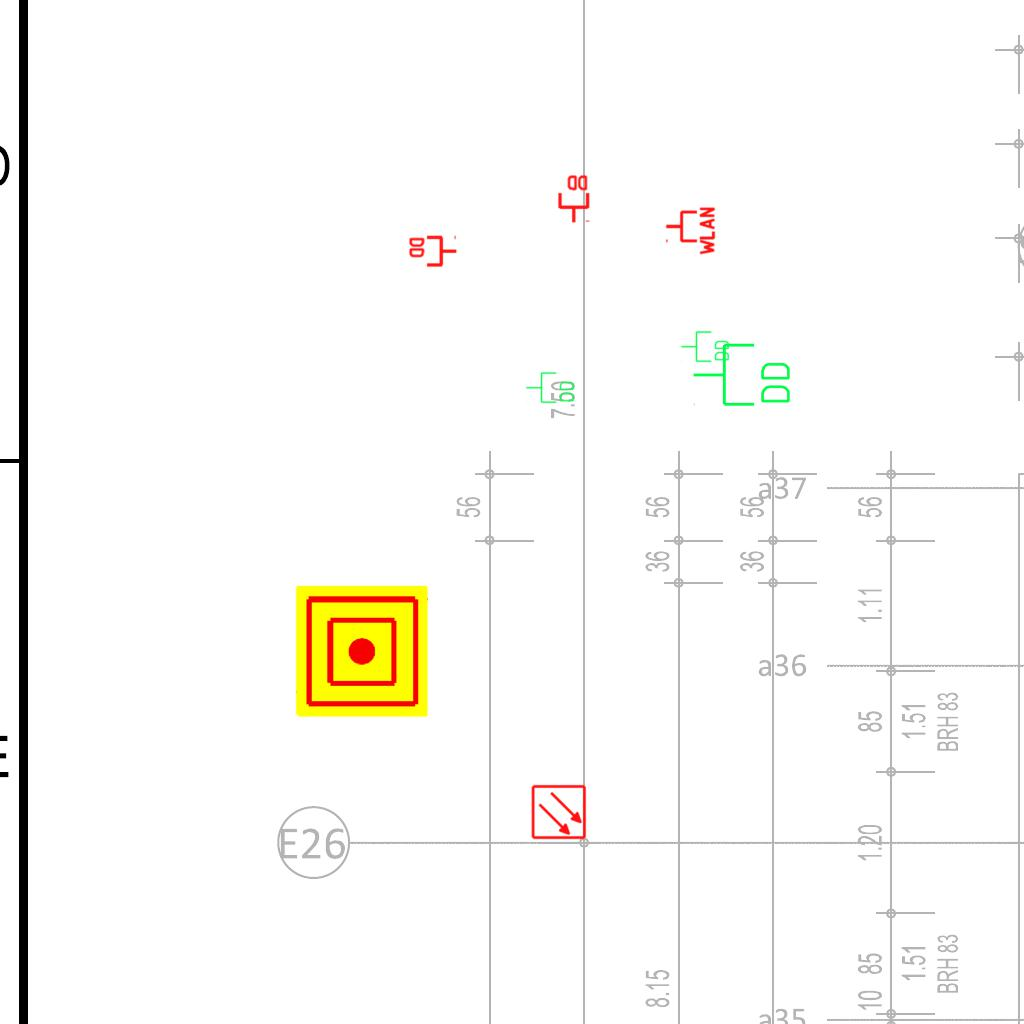Datenanschluss_zweifach: (691, 341, 794, 410), (525, 371, 576, 405), (407, 235, 458, 269), (680, 330, 731, 364), (556, 173, 590, 224)
NAM-Nichtautomatischer_Melder: (296, 585, 428, 717)
RMO_Rauchmelder_optischer: (530, 783, 588, 841)
WLAN: (664, 205, 716, 257)
